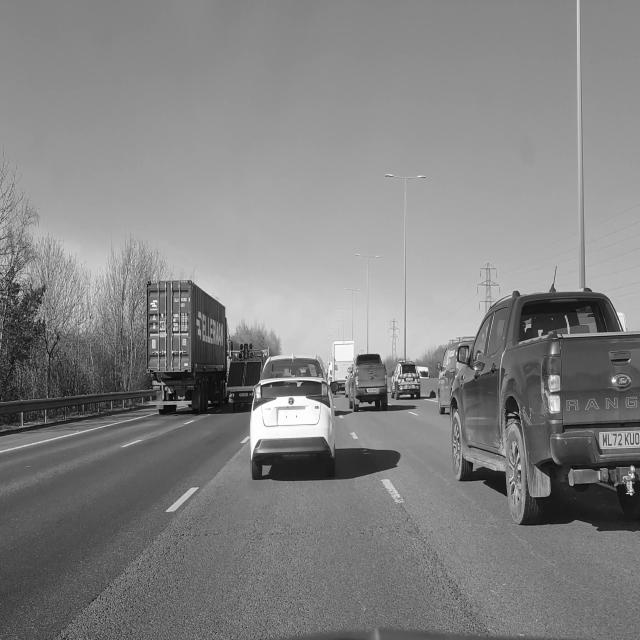car: (448, 279, 640, 529), (250, 355, 337, 479), (438, 337, 474, 414), (352, 349, 389, 416), (392, 361, 420, 399)
